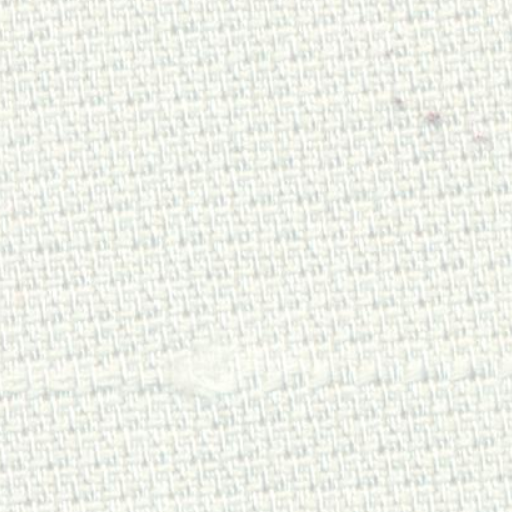DaiSha: (10, 342, 500, 400)
